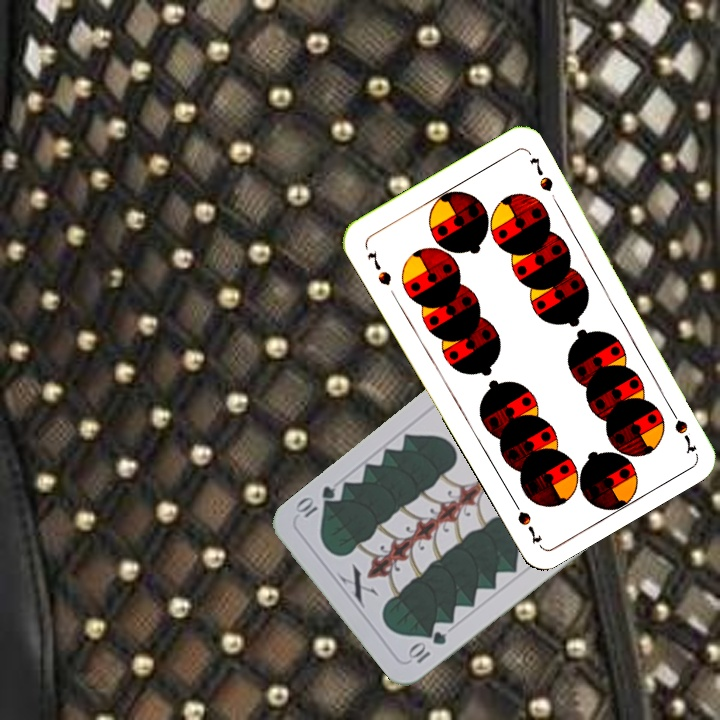G10: (404, 627, 449, 666)
S7: (663, 401, 700, 455), (362, 247, 394, 289)
